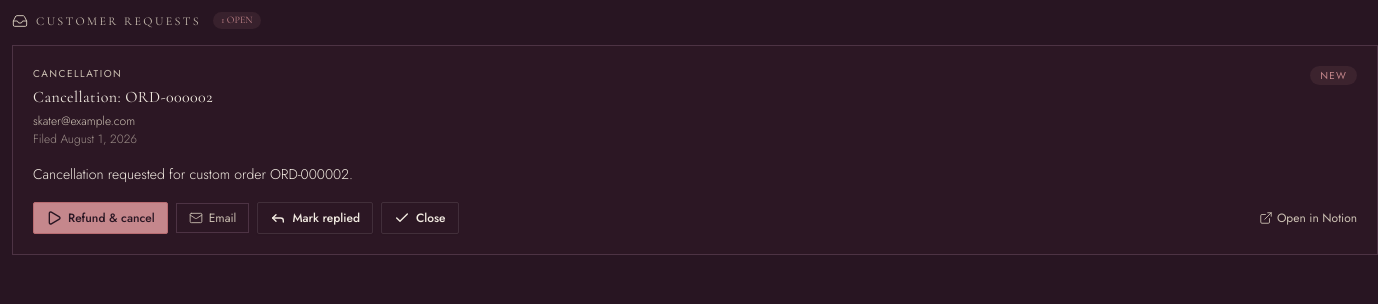
StudioRequests › working the queue down › shows the server's reason when a state change fails
Click the button with test id "request-close-req-1" at (420, 218), box [381,202,458,234]
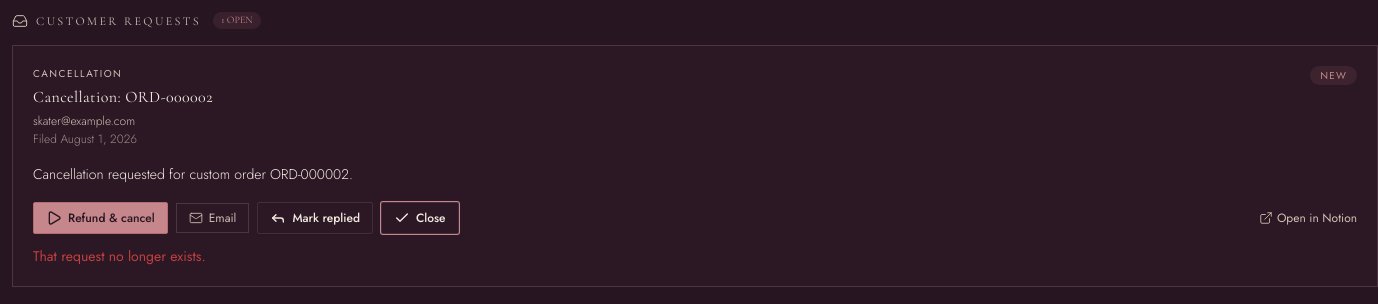
Check: the text with test id "request-error-req-1" reads "That request no longer exists.", box [33,246,206,266]
